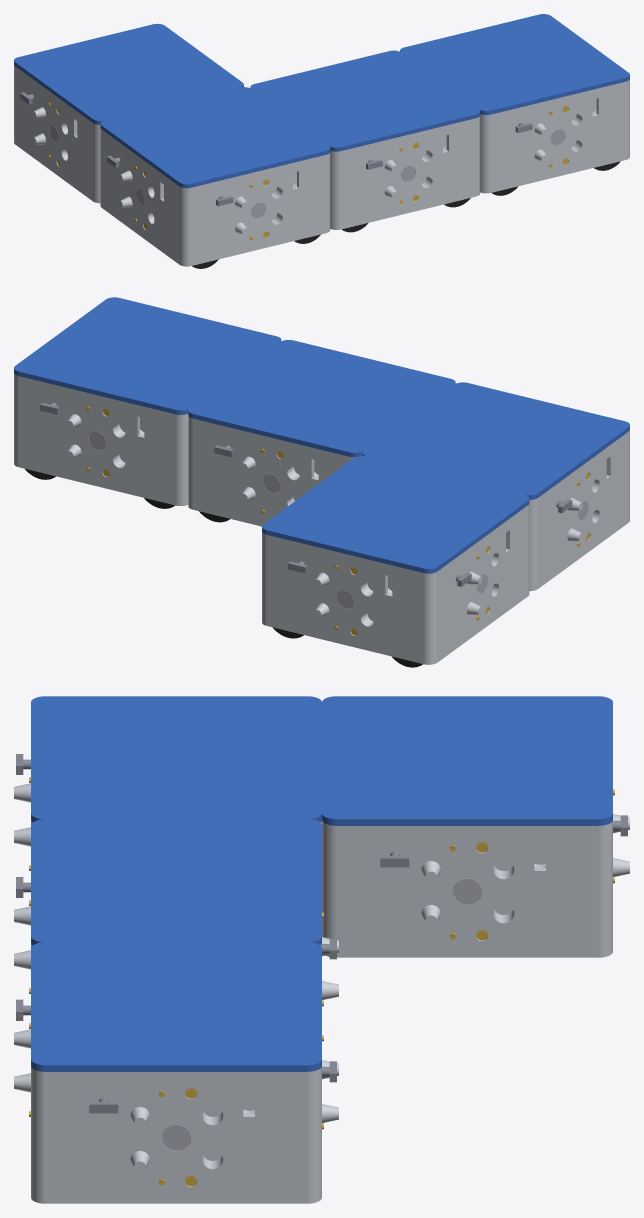
File: cluster_lshape4.glb
The picture shows the model from 3 angles, top to bottom: view 1: azimuth 30°, elevation 25°; view 2: azimuth 150°, elevation 25°; view 3: azimuth 270°, elevation 25°; orthographic projection. The views are drawn at different scales.
Visible parts, largest first — view 1: lid_1 (×4), body_1 (×4); view 2: lid_1 (×4), body_1 (×4); view 3: lid_1 (×4), body_1 (×3).
Boxes of the visible parts, x1,y1,x2,y2 form: lid_1 (×4): [14, 14, 629, 188]; body_1 (×4): [14, 65, 629, 266]; lid_1 (×4): [14, 297, 629, 573]; body_1 (×4): [14, 373, 629, 664]; lid_1 (×4): [31, 696, 612, 1071]; body_1 (×3): [14, 814, 629, 1203].
Bounding box in the file's own units: 0.374 × 0.069 × 0.254.
